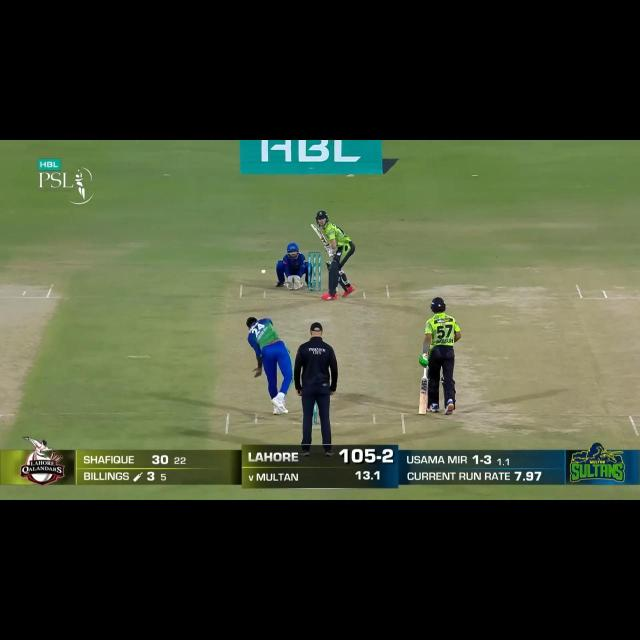bat: (416, 377, 430, 416), (308, 221, 330, 245)
toe: (417, 407, 428, 415), (309, 221, 318, 229)
